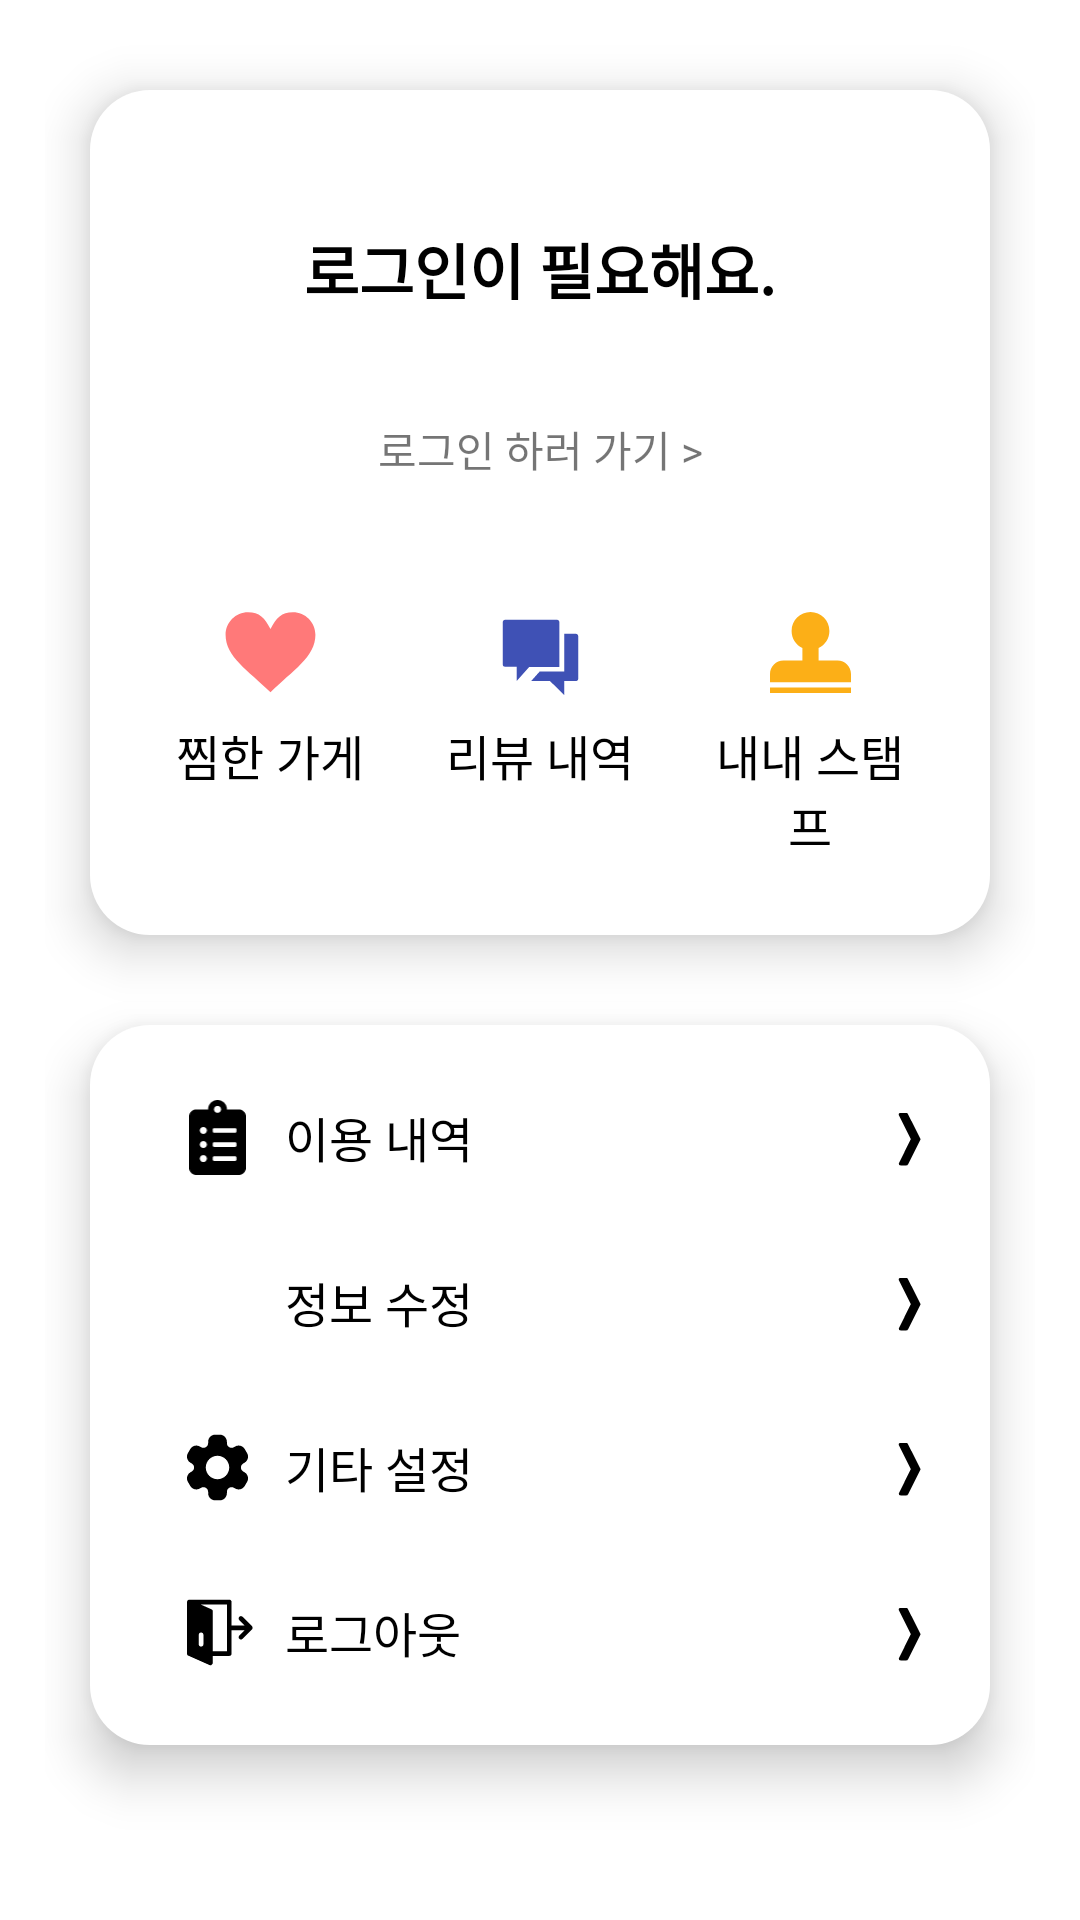

Where to tap for icons on this 1080px x 1920px app screen, as (x=x, y=y):
comment: (x=540, y=657)
heart: (x=270, y=652)
history: (x=217, y=1137)
next: (x=909, y=1139), (x=909, y=1304), (x=909, y=1469), (x=909, y=1634)
setting: (x=217, y=1467)
stamp: (x=810, y=652)
